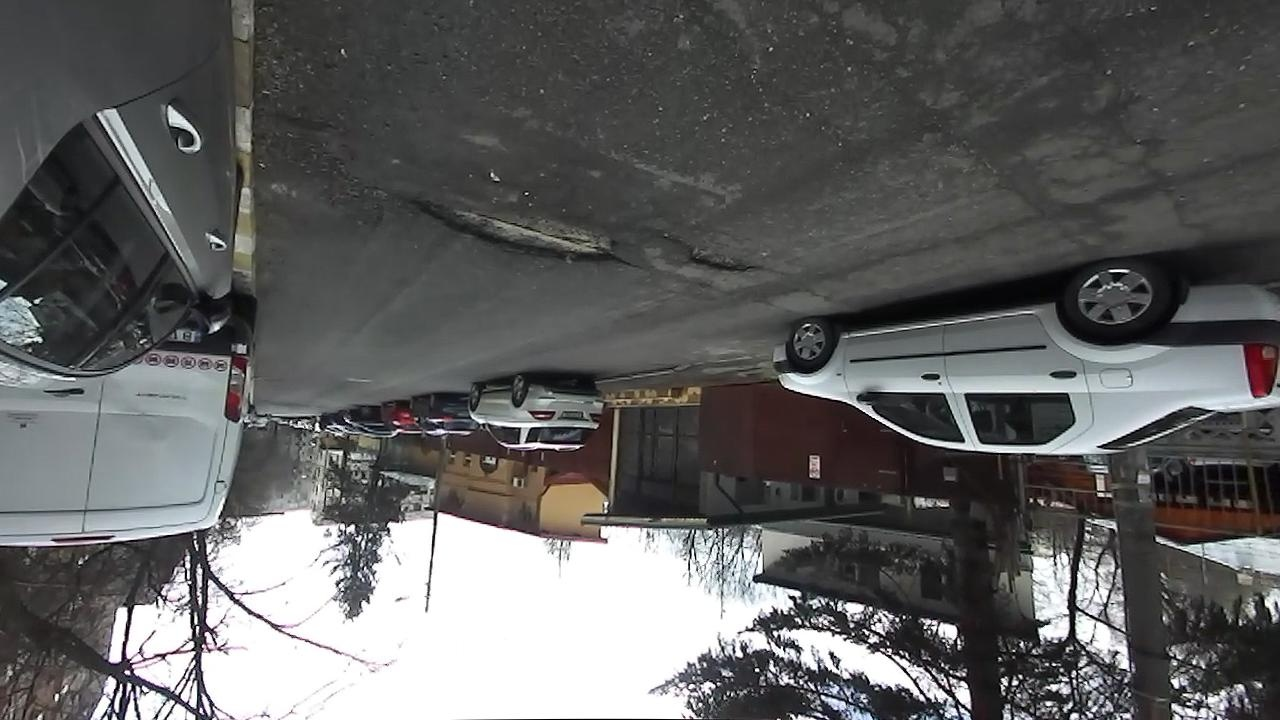pothole: (392, 186, 641, 273), (655, 232, 764, 276)
